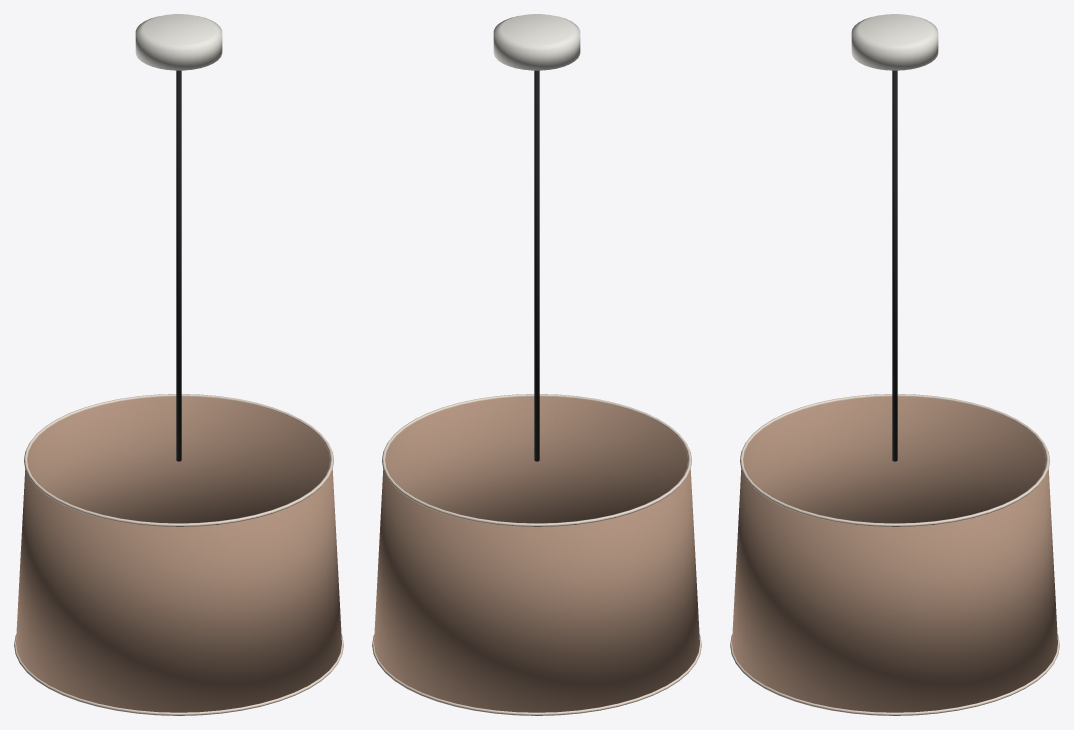
Rendered from contemporary.pendant.gltf.
The picture shows the model from 3 angles, left to right: view 1: azimuth 30°, elevation 25°; view 2: azimuth 150°, elevation 25°; view 3: azimuth 270°, elevation 25°; orthographic projection.
Parts seen in each view (by area): view 1: contemporary.pendant.ceiling-rose; view 2: contemporary.pendant.ceiling-rose; view 3: contemporary.pendant.ceiling-rose.
Part boxes in pixels (bbox=[...]): contemporary.pendant.ceiling-rose: bbox=[14, 14, 343, 715]; contemporary.pendant.ceiling-rose: bbox=[372, 14, 701, 715]; contemporary.pendant.ceiling-rose: bbox=[730, 14, 1059, 715].
Size of the model in its own units: 0.364 by 0.7517 by 0.364.
5 materials, 1 textured.
